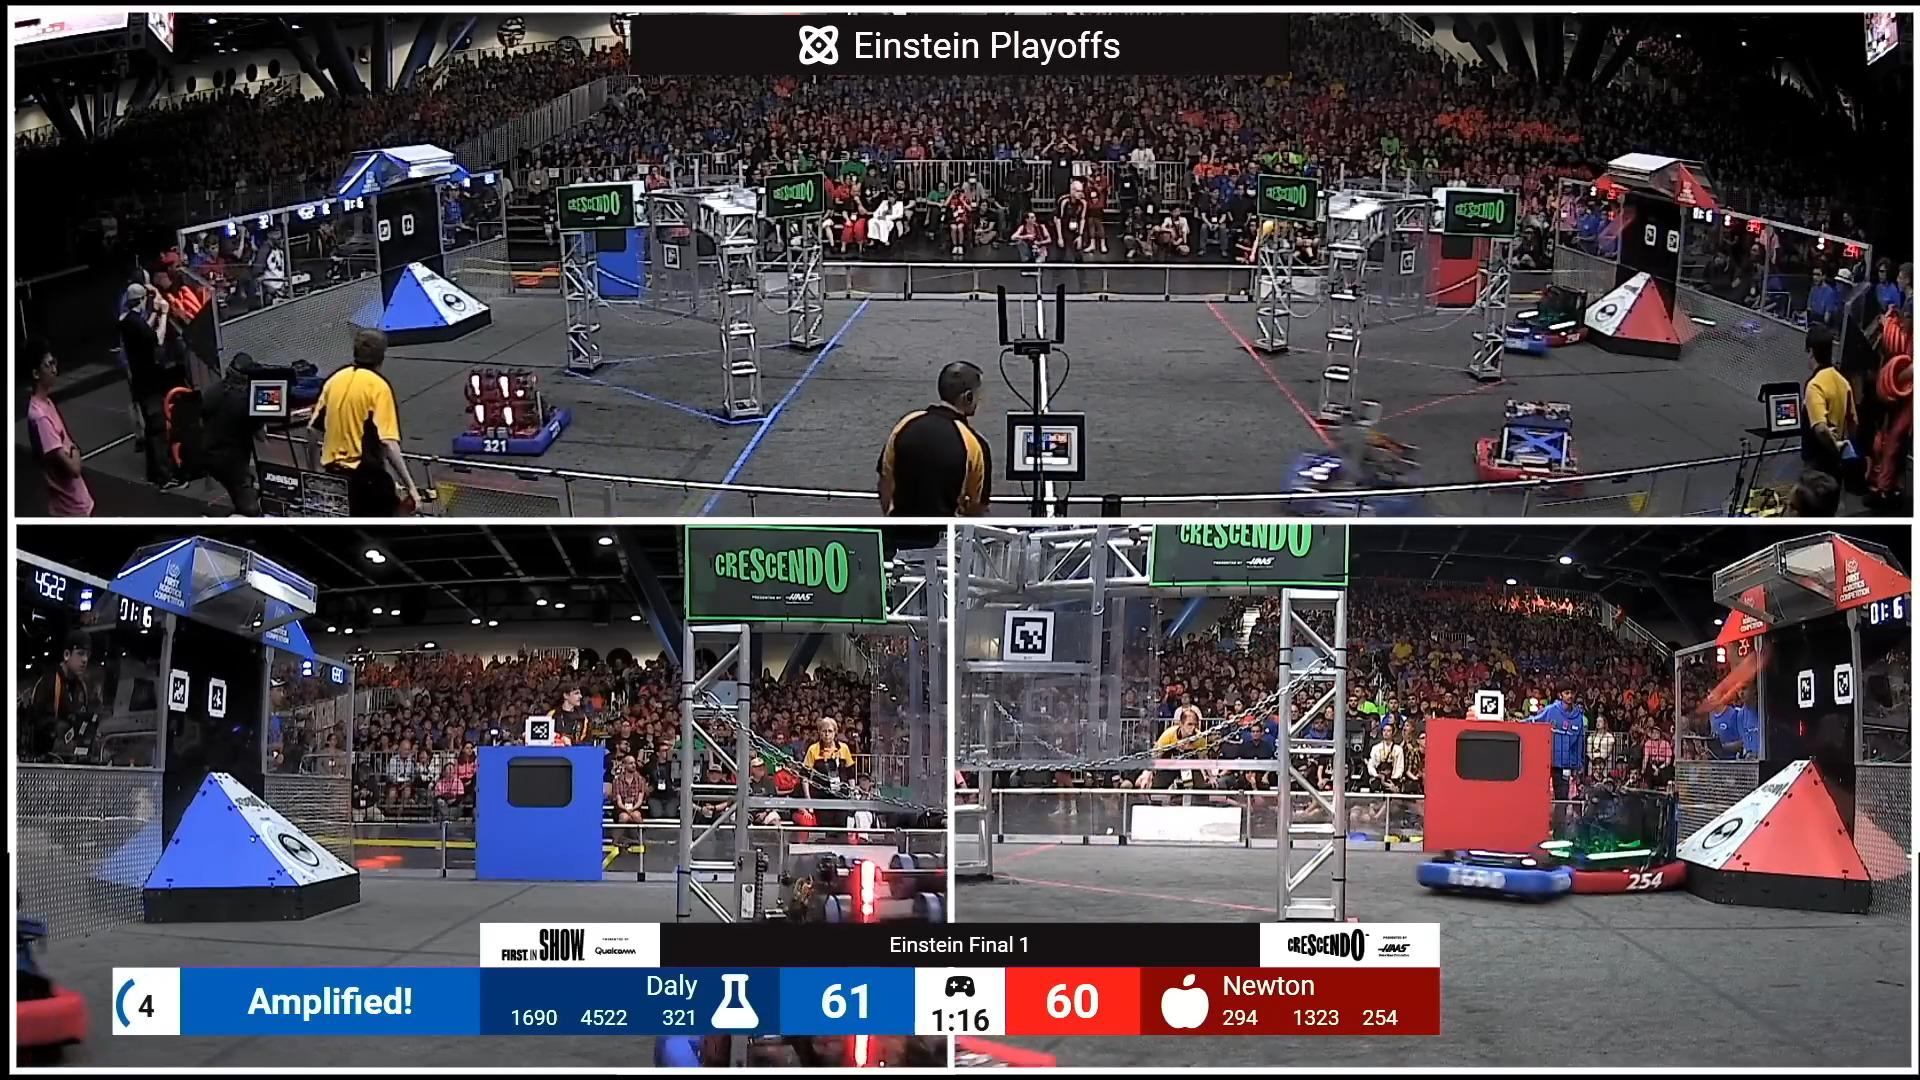blue_idle: (1288, 406, 1451, 526), (444, 356, 574, 460), (1414, 829, 1572, 911)
red_idle: (1458, 382, 1607, 489), (16, 884, 96, 1048)
red_shooting: (1552, 752, 1696, 915), (1520, 274, 1592, 347)
